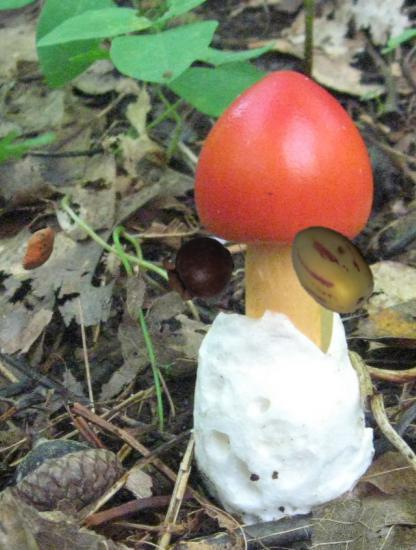Mangostan: (163, 234, 234, 305)
Pepino: (283, 220, 382, 319)
Potato: (14, 224, 65, 275)
